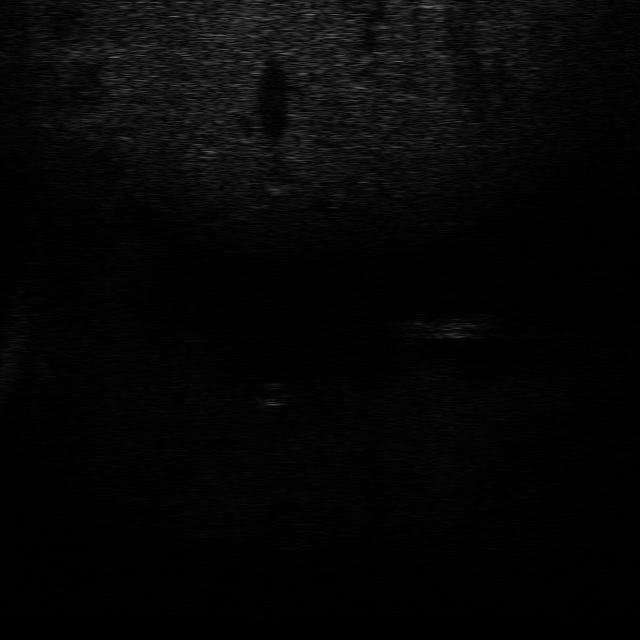ball: (248, 378, 298, 409)
human body: (399, 307, 499, 347)
